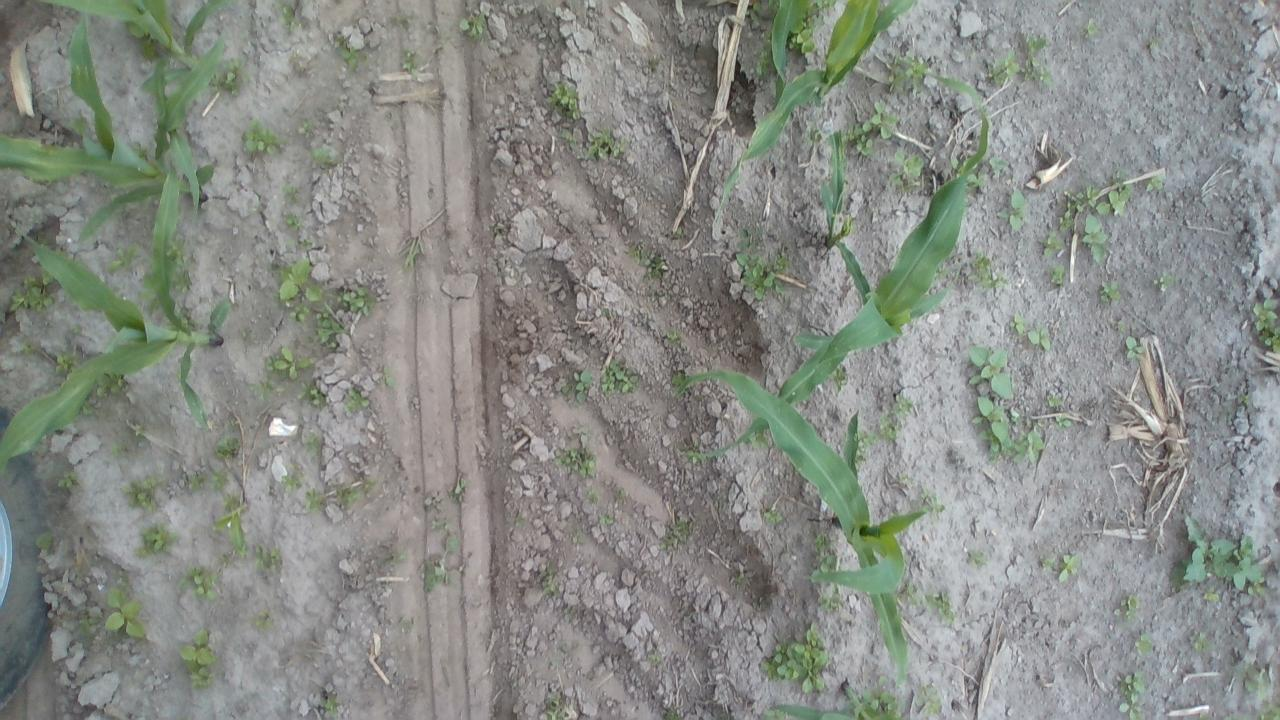Maize: (672, 50, 989, 457), (679, 370, 930, 688), (3, 170, 223, 465), (0, 14, 218, 246), (722, 0, 918, 191), (44, 0, 225, 89), (824, 130, 870, 304), (769, 681, 872, 720), (766, 0, 802, 106), (214, 500, 248, 552)
Weeds: (1039, 174, 1132, 262), (1186, 513, 1262, 588), (760, 622, 829, 696), (418, 490, 460, 592), (846, 94, 896, 156), (254, 344, 308, 397), (964, 345, 1014, 401), (272, 257, 325, 305), (731, 250, 786, 296), (971, 398, 1016, 454), (102, 588, 144, 640), (178, 629, 215, 686), (6, 271, 55, 314), (132, 522, 180, 561), (306, 308, 351, 348), (546, 78, 586, 122), (1251, 298, 1280, 358), (554, 446, 599, 483), (1228, 658, 1276, 692), (242, 121, 286, 158), (331, 279, 377, 314), (122, 474, 163, 512), (1020, 31, 1051, 81), (890, 52, 928, 92), (1115, 670, 1145, 720), (968, 255, 1006, 294), (602, 357, 640, 396), (332, 31, 369, 71), (1000, 185, 1030, 232), (983, 47, 1021, 84), (890, 154, 924, 194), (912, 682, 947, 720), (211, 62, 250, 96), (560, 370, 600, 402), (632, 244, 668, 278), (183, 568, 217, 602), (534, 560, 564, 598), (106, 245, 143, 275), (396, 232, 428, 266), (660, 520, 694, 552), (128, 26, 158, 62), (534, 694, 574, 720), (342, 384, 371, 419), (1019, 425, 1044, 462), (584, 131, 618, 158), (814, 534, 838, 572), (256, 546, 288, 574), (280, 0, 306, 34), (456, 13, 491, 38), (788, 25, 816, 56), (1116, 594, 1146, 621), (1025, 326, 1052, 354), (278, 463, 304, 492), (857, 430, 879, 464), (331, 483, 358, 510), (930, 592, 956, 619), (872, 686, 899, 711), (1130, 634, 1155, 660), (922, 487, 944, 516), (1186, 626, 1210, 652), (1057, 554, 1079, 582), (312, 143, 337, 167), (881, 414, 901, 444), (112, 437, 140, 458), (96, 378, 125, 398), (187, 471, 210, 496), (50, 350, 76, 372), (168, 238, 188, 266), (818, 591, 844, 612), (280, 210, 302, 234), (208, 469, 230, 493), (322, 690, 346, 712), (452, 473, 470, 502), (834, 366, 852, 395), (894, 397, 920, 417), (254, 610, 276, 633), (898, 581, 918, 606), (305, 432, 324, 458), (966, 171, 989, 192), (402, 50, 422, 74), (1122, 336, 1142, 360), (223, 548, 249, 566), (1146, 25, 1166, 48), (57, 471, 81, 490), (1256, 701, 1280, 720), (31, 534, 56, 552), (174, 268, 194, 290), (682, 447, 704, 467), (76, 613, 100, 631), (1048, 264, 1066, 288), (965, 548, 985, 569), (760, 48, 774, 78), (390, 12, 416, 28), (810, 0, 836, 16), (380, 364, 396, 389), (662, 329, 682, 349), (1080, 18, 1100, 38), (761, 507, 782, 526), (305, 491, 327, 509), (1046, 390, 1068, 408), (296, 124, 320, 140), (650, 646, 666, 668), (1100, 280, 1116, 302), (290, 306, 309, 324), (360, 479, 379, 497), (608, 483, 626, 502), (22, 338, 43, 354), (216, 441, 238, 456), (898, 476, 916, 494), (1146, 176, 1164, 194), (1008, 313, 1026, 330), (989, 158, 1010, 172), (1156, 272, 1172, 290), (645, 54, 662, 70), (310, 389, 326, 406), (668, 371, 684, 386), (1246, 581, 1264, 594), (285, 186, 301, 200), (1203, 592, 1223, 602), (584, 491, 597, 505), (600, 513, 614, 526), (297, 236, 315, 246), (1237, 392, 1251, 404), (514, 512, 524, 528), (224, 498, 240, 508), (1040, 556, 1052, 568), (1056, 416, 1070, 426)
